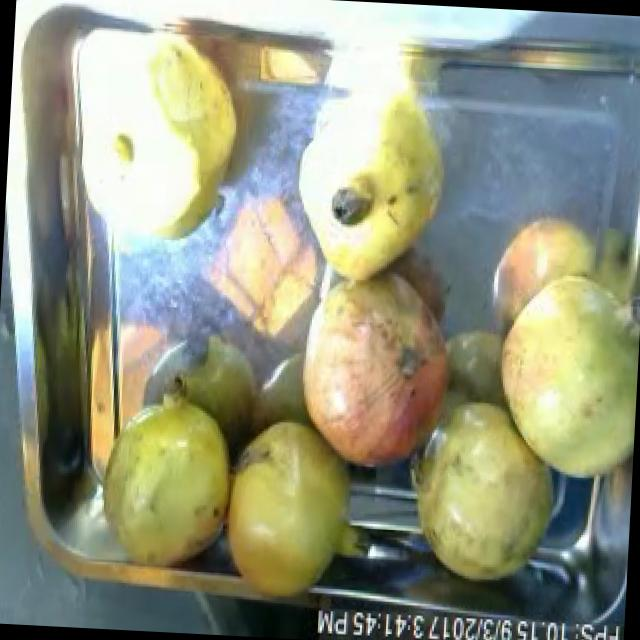fruit: (67, 25, 261, 266), (278, 75, 464, 305), (280, 254, 459, 486), (479, 246, 640, 497), (396, 382, 573, 598), (208, 402, 384, 616), (86, 355, 248, 574)
